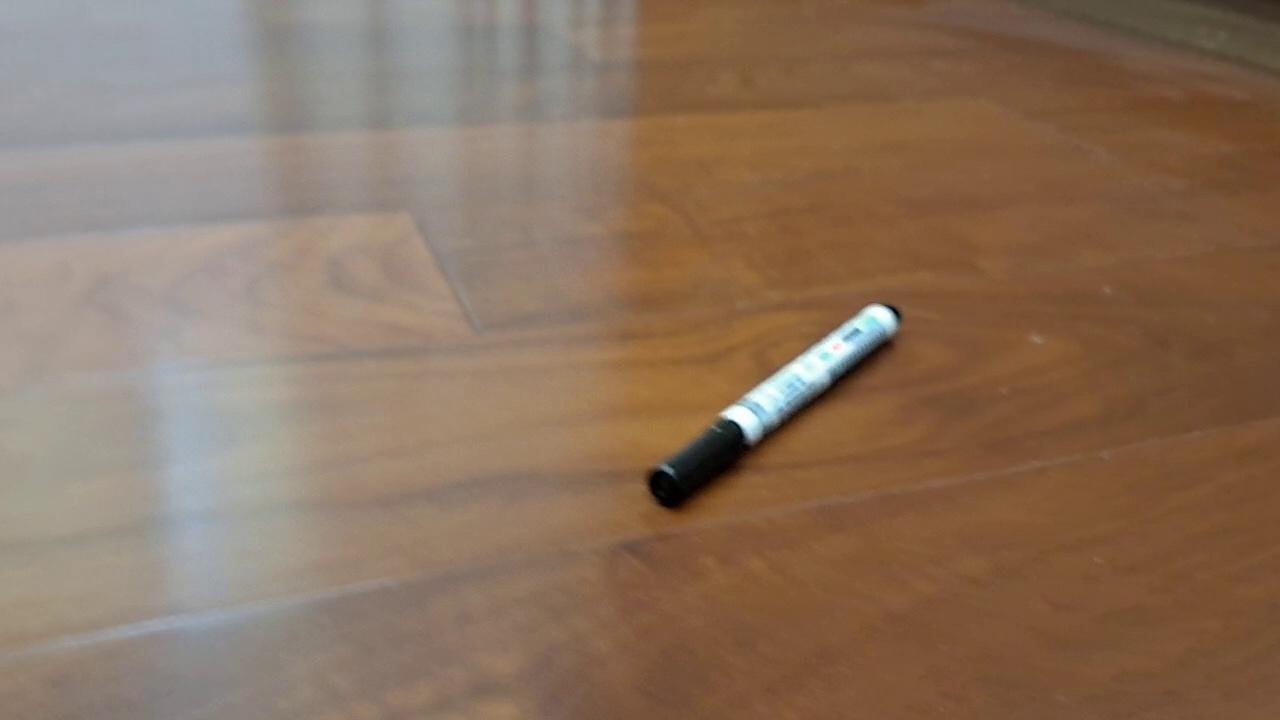pen: (646, 301, 902, 509)
